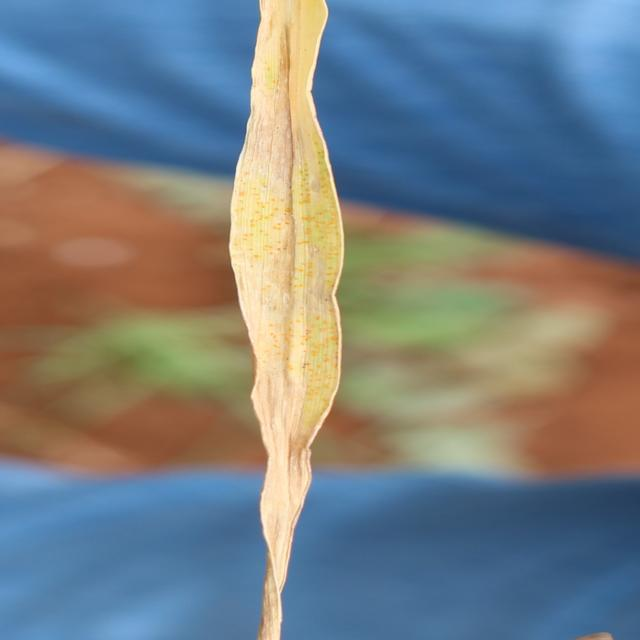Septoria: (227, 1, 346, 638)
